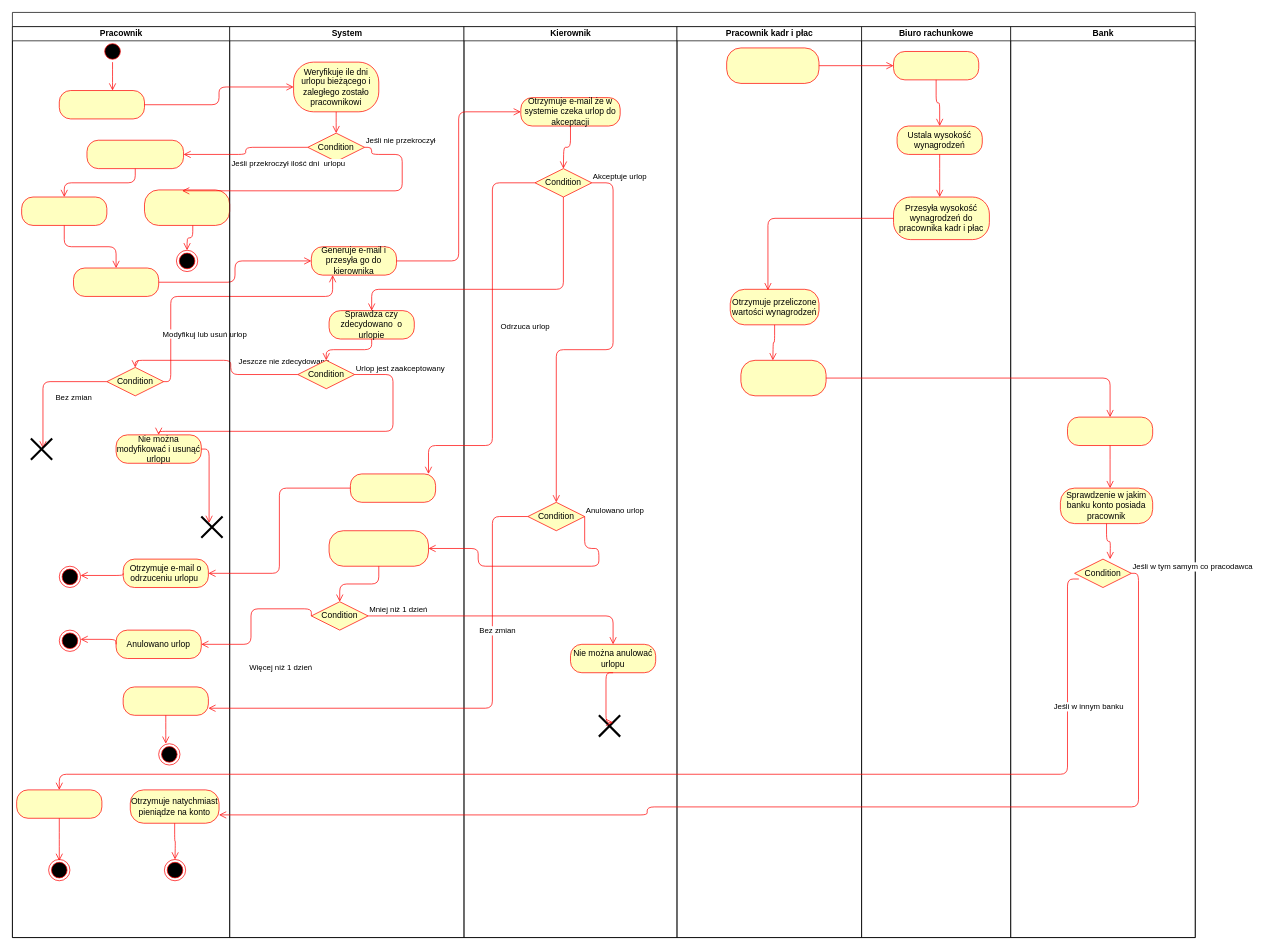
Image size: 1265x950. Some labels were removed from this diagram. Here are the shapes that lost their labels. From the top down, the centre of each, then its label:
[772,65]: Wysyła zestawienie o urlopach wszystkich pracowników
[936,65]: Otrzymuje zestawienie
[101,104]: Zaznacza proponowany okres urlopu
[135,154]: Popraw wybrany urlop uwzględnij ile masz urlopu
[64,210]: Poprawia proponowany urlop
[187,207]: Wyświetla ilość pozostałych dni urlopu
[116,281]: Przesyła do akceptacji
[783,378]: Wykonuje przelewy na konta bankowe pracowników
[1110,431]: Otrzymuje pieniądze
[393,487]: Generuje e-mail o odrzuceniu urlopu
[378,548]: Sprawdzenie czy mniej niż dzień przed rozpoczęciem urlopu
[165,700]: Zaakceptowano urlop
[59,803]: Otrzymuje pieniądze następnego dnia
